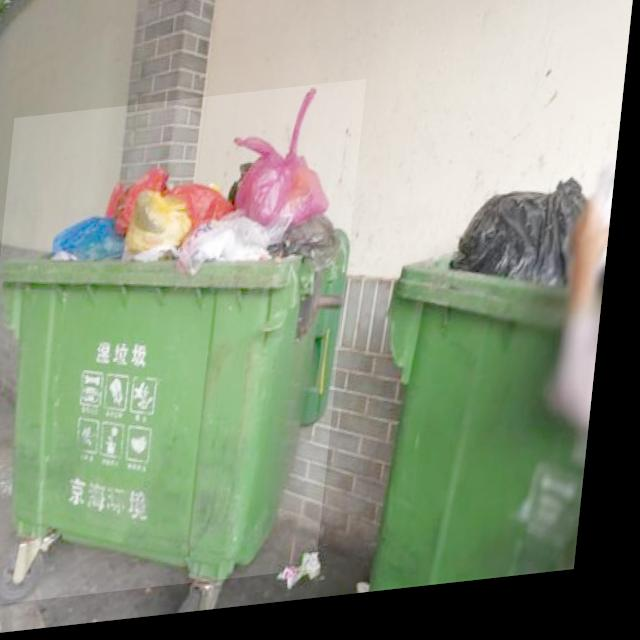overflow: (0, 88, 369, 609), (376, 195, 618, 601)
